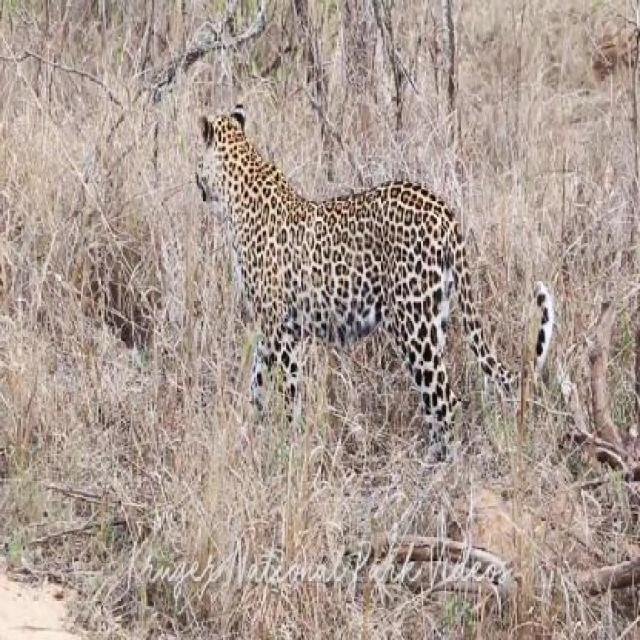Leopard: (186, 94, 560, 508)
